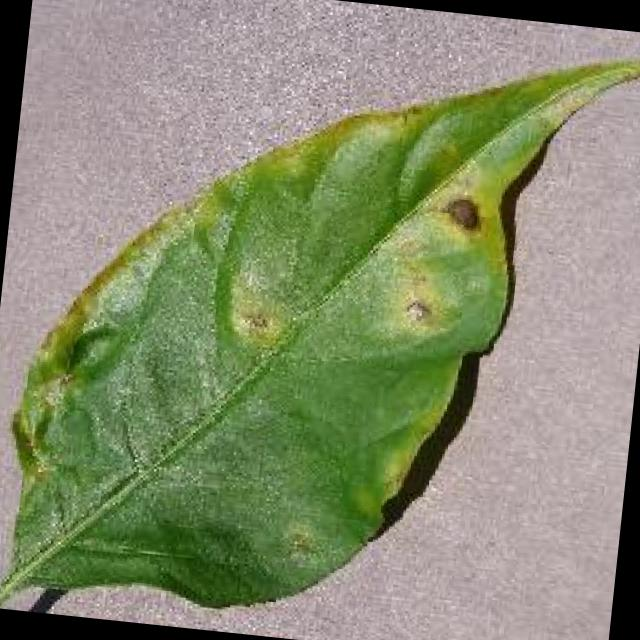Chilli_Bacterial_Spot: (0, 0, 640, 640), (208, 164, 496, 380), (214, 270, 299, 358), (386, 270, 456, 341), (222, 297, 288, 351), (438, 192, 484, 236), (398, 293, 436, 329)
